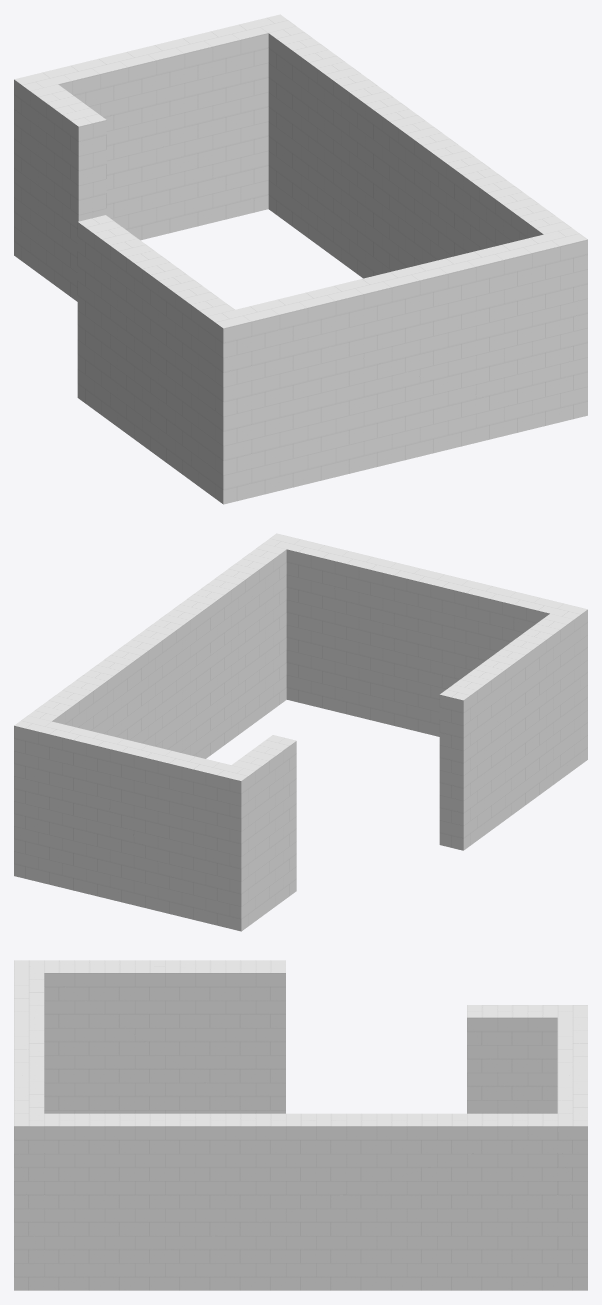
Rendered from Level2Walls.obj.
3 views of the same model, one above another, from view 1: azimuth 30°, elevation 25°; view 2: azimuth 150°, elevation 25°; view 3: azimuth 270°, elevation 25° (orthographic). The views are drawn at different scales.
Parts seen in each view (by area): view 1: Level2Walls; view 2: Level2Walls; view 3: Level2Walls.
Boxes of the visible parts, left/top/right/bottom form: Level2Walls: left=14, top=14, right=587, bottom=504; Level2Walls: left=14, top=533, right=587, bottom=931; Level2Walls: left=14, top=960, right=587, bottom=1290.
Size of the model in its own units: 13 by 6 by 19.
